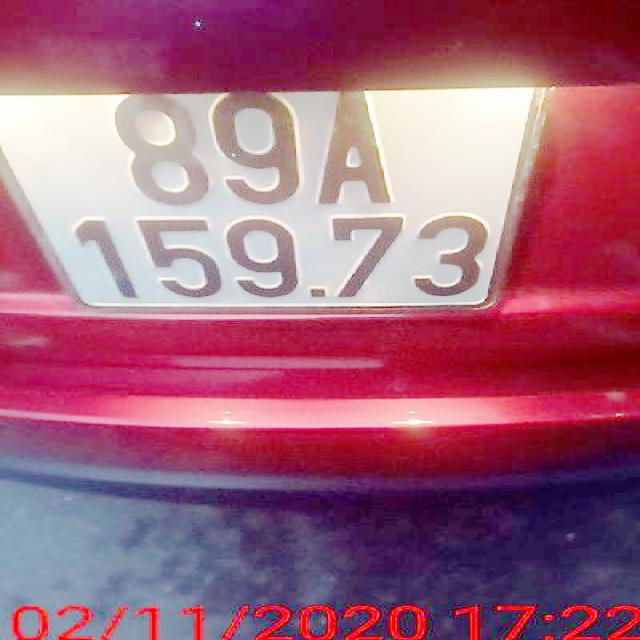license_plate: (6, 90, 543, 310)
